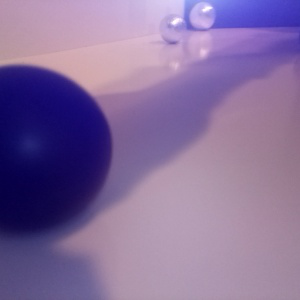alive_ball: (158, 14, 188, 42), (189, 1, 217, 29)
dead_ball: (1, 63, 112, 228)
